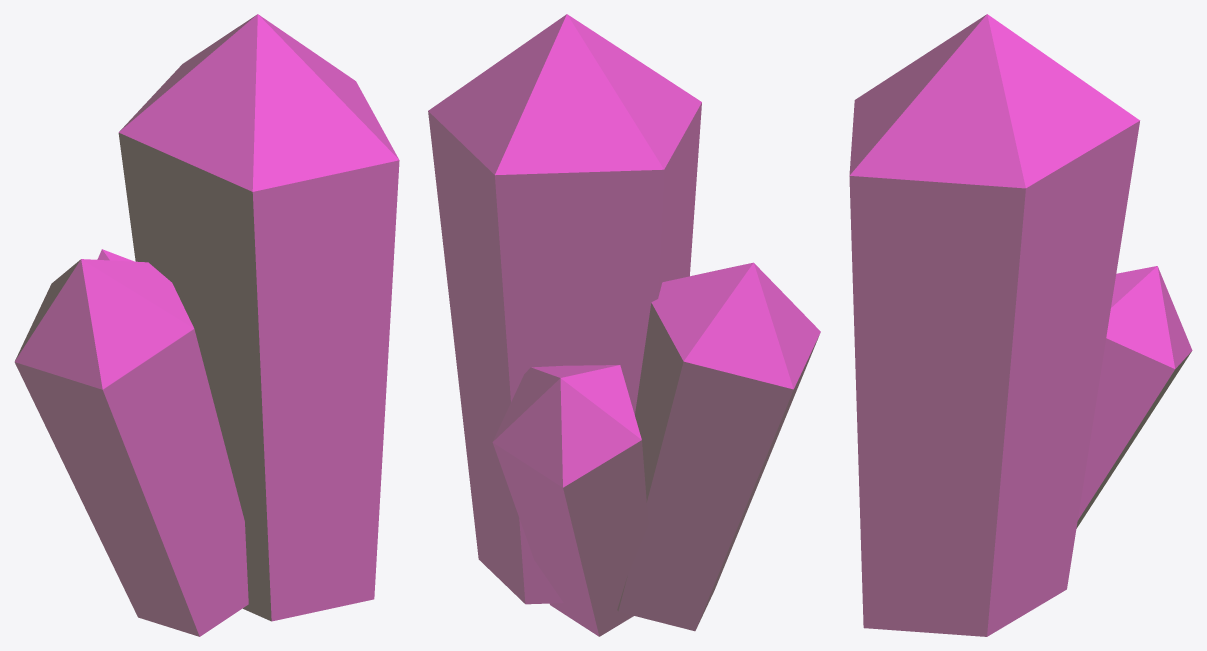
The model's file is uploads_files_4457158_Pile_Of_Trash_3_SIZES.gltf.
The picture shows the model from 3 angles, left to right: view 1: azimuth 30°, elevation 25°; view 2: azimuth 150°, elevation 25°; view 3: azimuth 270°, elevation 25°; orthographic projection. The views are drawn at different scales.
Parts seen in each view (by area): view 1: Circle.002; view 2: Circle.002; view 3: Circle.002.
Boxes of the visible parts, left/top/right/bottom form: Circle.002: left=14, top=14, right=399, bottom=636; Circle.002: left=428, top=14, right=820, bottom=636; Circle.002: left=849, top=14, right=1192, bottom=636.
Size of the model in its own units: 3.22 by 5.07 by 2.61.
